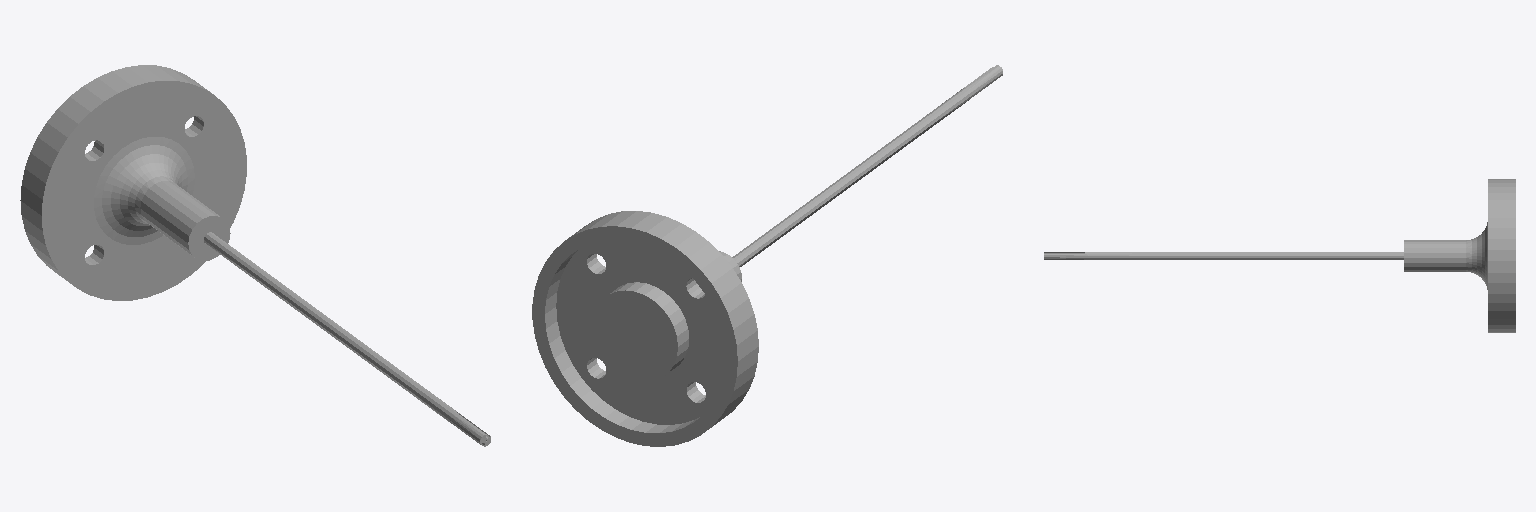
URDF robot description (TCP_UR_endo_completo_1):
<?xml version="1.0" encoding="utf-8"?>
<!-- =================================================================================== -->
<!-- |    This document was autogenerated by xacro from TCP_UR_endo_completo_1.xacro   | -->
<!-- |    EDITING THIS FILE BY HAND IS NOT RECOMMENDED                                 | -->
<!-- =================================================================================== -->
<robot name="TCP_UR_endo_completo_1">
  <material name="silver">
    <color rgba="0.700 0.700 0.700 1.000"/>
  </material>
  <gazebo>
    <plugin filename="libgazebo_ros_control.so" name="control"/>
  </gazebo>
  <gazebo reference="base_link">
    <material>Gazebo/Silver</material>
    <mu1>0.2</mu1>
    <mu2>0.2</mu2>
    <selfCollide>true</selfCollide>
    <gravity>true</gravity>
  </gazebo>
  <link name="base_link">
    <inertial>
      <origin rpy="0 0 0" xyz="-6.86225599579643e-08 -0.004574470622730018 2.7737441340990564e-08"/>
      <mass value="0.39761064681308467"/>
      <inertia ixx="0.000462" ixy="-0.0" ixz="0.0" iyy="0.000216" iyz="-0.0" izz="0.000462"/>
    </inertial>
    <visual>
      <origin rpy="0 0 0" xyz="0 0 0"/>
      <geometry>
        <mesh filename="package://TCP_UR_endo_completo_1_description/meshes/base_link.stl" scale="0.001 0.001 0.001"/>
      </geometry>
      <material name="silver"/>
    </visual>
    <collision>
      <origin rpy="0 0 0" xyz="0 0 0"/>
      <geometry>
        <mesh filename="package://TCP_UR_endo_completo_1_description/meshes/base_link.stl" scale="0.001 0.001 0.001"/>
      </geometry>
    </collision>
  </link>
</robot>

--- Facts derived from the render (not from the file) ---
Views: 3 orthographic renders of the robot side by side, from view 1: azimuth 30°, elevation 25°; view 2: azimuth 150°, elevation 25°; view 3: azimuth 270°, elevation 25°.
Robot: TCP_UR_endo_completo_1 — 1 links, 0 joints (none); root link base_link; default pose: all joints at 0.
Visible links, largest first — view 1: base_link; view 2: base_link; view 3: base_link.
Boxes of the visible links, <box> form: base_link: <box>20,65,490,446</box>; base_link: <box>532,65,1002,446</box>; base_link: <box>1044,179,1515,332</box>.
Bounding box of the posed robot: 0.0729 × 0.223 × 0.073 m (x, y, z).
Meshes: 1 distinct files referenced, 1 mesh visuals loaded (1 binary STL).